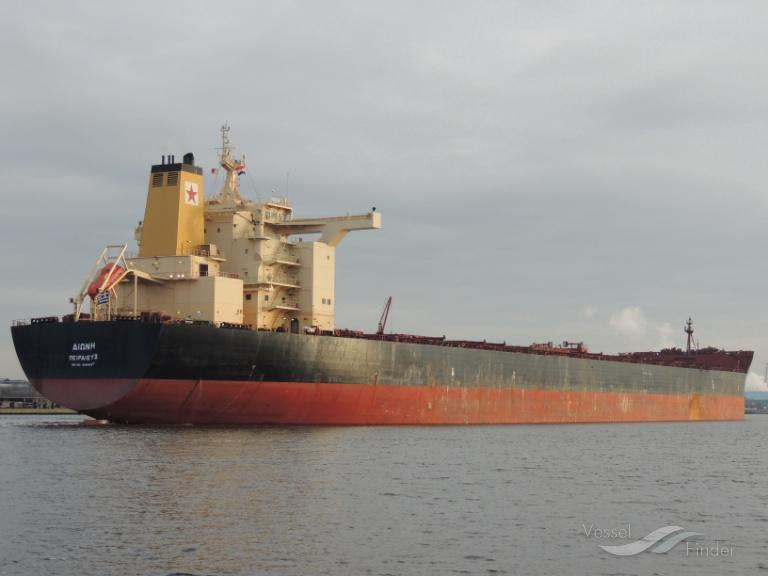OCR: (57, 336, 103, 374)
